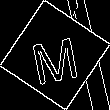M_N: (28, 26, 82, 84)
